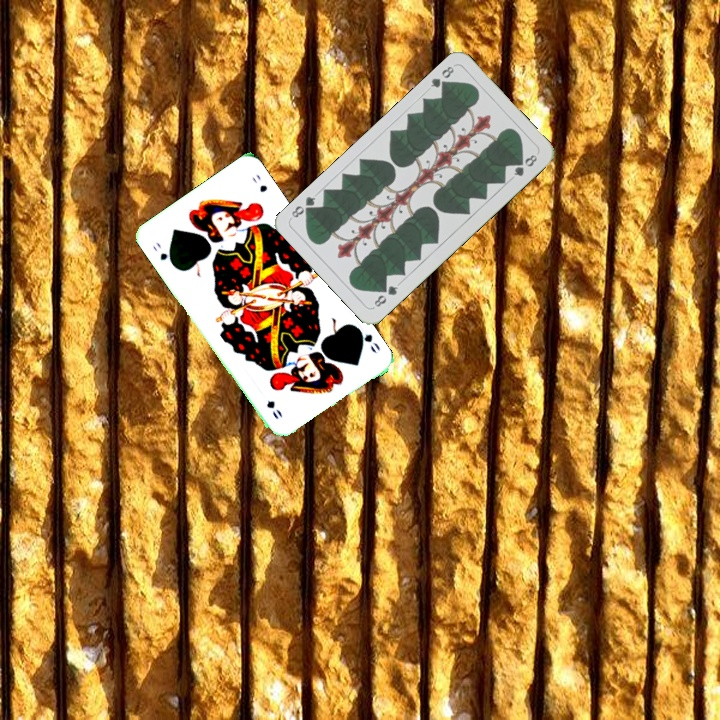G8: (427, 62, 457, 92), (370, 281, 401, 310)
GO: (353, 323, 383, 356), (148, 238, 177, 269)
